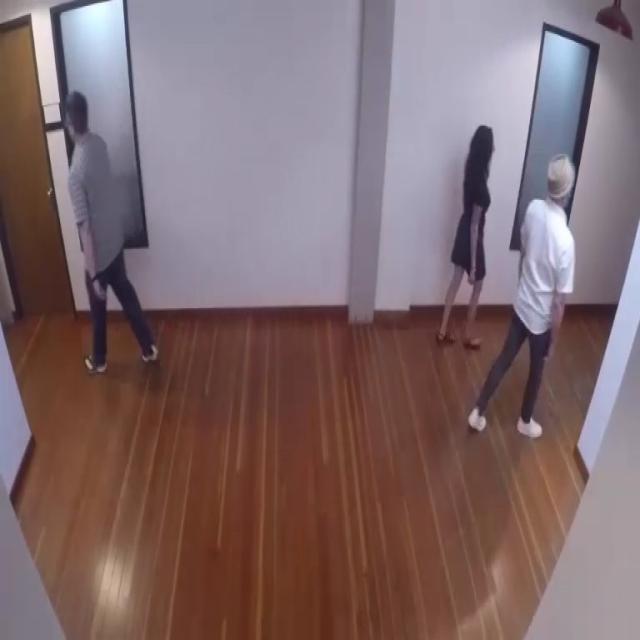Stupid: (466, 152, 576, 438), (64, 89, 158, 373), (436, 123, 495, 348)
